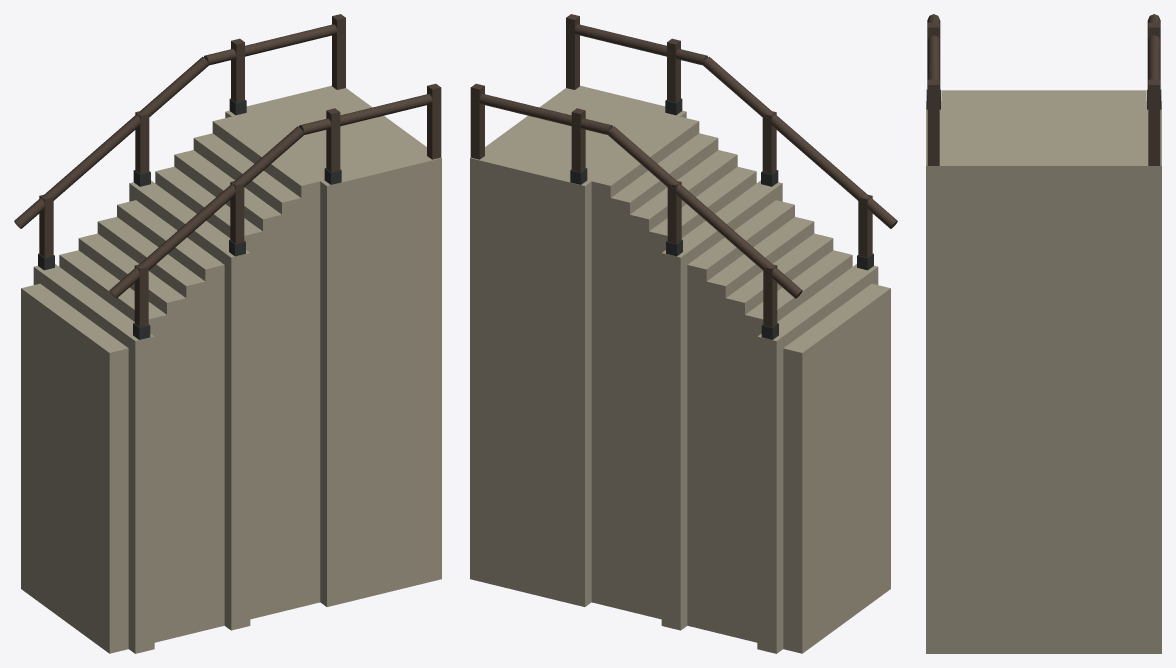
File: siege-stair-flight-upper.glb
The picture shows the model from 3 angles, left to right: view 1: azimuth 30°, elevation 25°; view 2: azimuth 150°, elevation 25°; view 3: azimuth 270°, elevation 25°; orthographic projection. The views are drawn at different scales.
Visible parts, largest first — view 1: Mesh_LandingEdgeSupport_1, Mesh_Step25, Mesh_PostSupport_1_7, Mesh_Step35, Mesh_Step34, Mesh_PostSupport_1_6, Mesh_Step33, Mesh_Step30, Mesh_Step29, Mesh_Step28, Mesh_PostSupport_1_5, Mesh_TopLanding (+17 smaller); view 2: Mesh_LandingEdgeSupport_-1, Mesh_Step25, Mesh_Step35, Mesh_Step34, Mesh_PostSupport_-1_6, Mesh_Step33, Mesh_Step30, Mesh_Step29, Mesh_Step28, Mesh_PostSupport_-1_5, Mesh_TopLanding, Mesh_PostSupport_-1_7 (+17 smaller); view 3: Mesh_TopLanding, Mesh_LandingEdgeSupport_1, Mesh_LandingEdgeSupport_-1, Mesh_Step35, Mesh_LandingEndPost_-1, Mesh_LandingEndPost_1, Mesh_LandingHandrail_-1, Mesh_LandingHandrail_1.
Part boxes in pixels (x1=…): Mesh_LandingEdgeSupport_1: x1=321, y1=155, x2=441, y2=602; Mesh_Step25: x1=21, y1=283, x2=128, y2=653; Mesh_PostSupport_1_7: x1=320, y1=178, x2=345, y2=606; Mesh_Step35: x1=212, y1=116, x2=320, y2=606; Mesh_Step34: x1=193, y1=133, x2=301, y2=611; Mesh_PostSupport_1_6: x1=224, y1=250, x2=250, y2=630; Mesh_Step33: x1=174, y1=150, x2=281, y2=616; Mesh_Step30: x1=117, y1=200, x2=224, y2=630; Mesh_Step29: x1=97, y1=217, x2=205, y2=634; Mesh_Step28: x1=78, y1=233, x2=186, y2=639; Mesh_PostSupport_1_5: x1=128, y1=333, x2=154, y2=653; Mesh_TopLanding: x1=232, y1=88, x2=426, y2=181; Mesh_LandingEdgeSupport_-1: x1=470, y1=155, x2=591, y2=606; Mesh_Step25: x1=783, y1=283, x2=890, y2=653; Mesh_Step35: x1=591, y1=116, x2=699, y2=606; Mesh_Step34: x1=610, y1=133, x2=718, y2=611; Mesh_PostSupport_-1_6: x1=661, y1=250, x2=687, y2=630; Mesh_Step33: x1=630, y1=150, x2=737, y2=616; Mesh_Step30: x1=687, y1=200, x2=794, y2=630; Mesh_Step29: x1=706, y1=217, x2=814, y2=634; Mesh_Step28: x1=725, y1=233, x2=833, y2=639; Mesh_PostSupport_-1_5: x1=757, y1=333, x2=783, y2=653; Mesh_TopLanding: x1=485, y1=88, x2=679, y2=181; Mesh_PostSupport_-1_7: x1=566, y1=178, x2=591, y2=606; Mesh_TopLanding: x1=941, y1=101, x2=1146, y2=653; Mesh_LandingEdgeSupport_1: x1=926, y1=102, x2=941, y2=653; Mesh_LandingEdgeSupport_-1: x1=1146, y1=103, x2=1161, y2=653; Mesh_Step35: x1=941, y1=90, x2=1146, y2=100; Mesh_LandingEndPost_-1: x1=1148, y1=79, x2=1160, y2=165; Mesh_LandingEndPost_1: x1=927, y1=79, x2=939, y2=165; Mesh_LandingHandrail_-1: x1=1147, y1=14, x2=1160, y2=95; Mesh_LandingHandrail_1: x1=927, y1=14, x2=940, y2=95.
Size of the model in its own units: 5.14 by 7.35 by 2.76.
